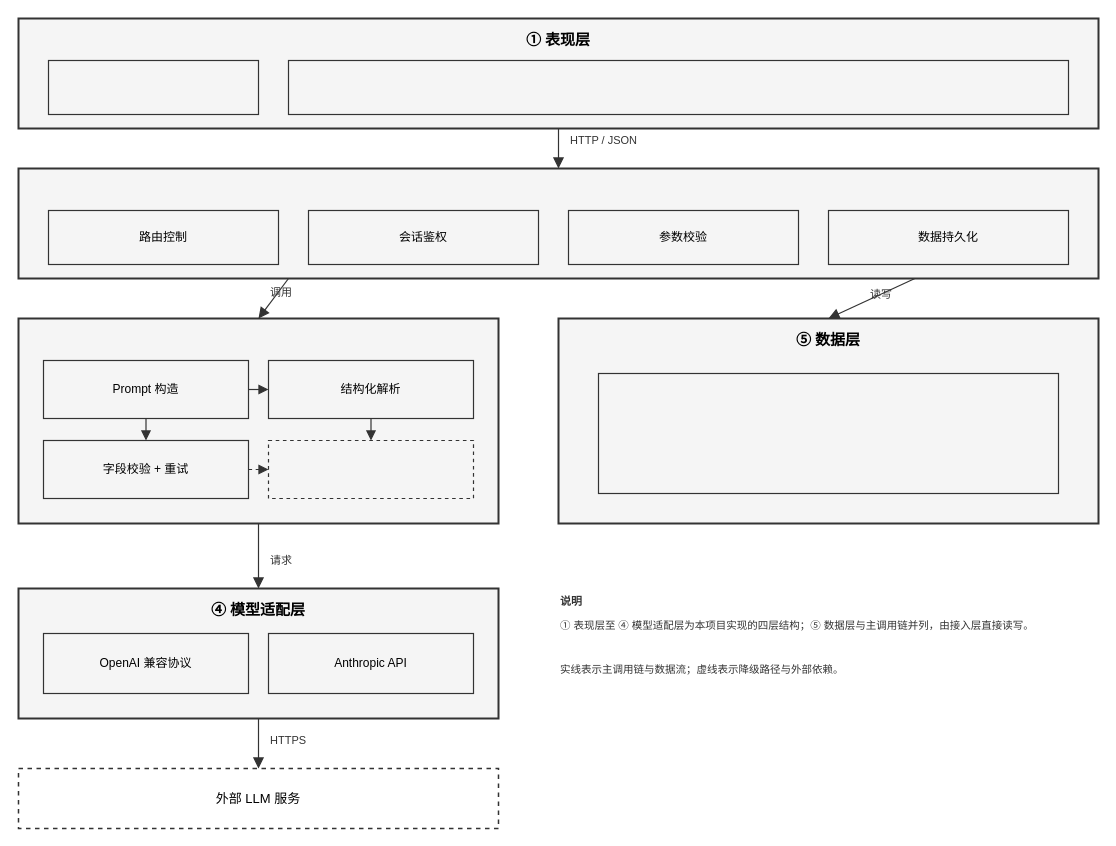
Some shapes in this 1116 by 846 pixel diagram are drawn without their labels. The shapes that lost their labels are listed below. From the top down, each one's box as (x1, y1, x2, y2) in pixels, then its label:
(47, 59, 259, 115): 登录 / 注册页
(287, 59, 1069, 115): 主界面：对话区 · 情绪可视化 · 统计面板
(17, 167, 1099, 279): ② 接入层
(17, 317, 499, 524): ③ AI 分析层
(597, 372, 1059, 494): users · conversations · checkins
(267, 439, 474, 499): 降级兜底
